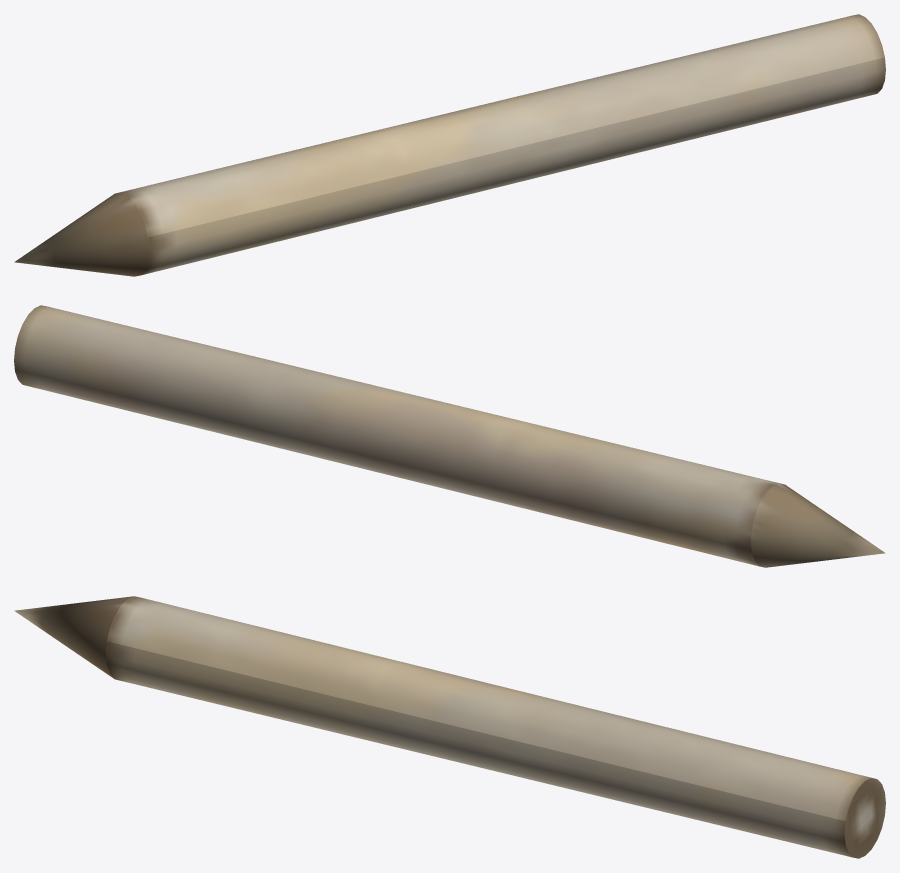
Rendered from SM_Farm_Pencil_01.fbx.
The picture shows the model from 3 angles, top to bottom: view 1: azimuth 30°, elevation 25°; view 2: azimuth 150°, elevation 25°; view 3: azimuth 330°, elevation 25°; orthographic projection.
Parts seen in each view (by area): view 1: SM_Farm_Pencil_01_LOD0; view 2: SM_Farm_Pencil_01_LOD0; view 3: SM_Farm_Pencil_01_LOD0.
Part boxes in pixels (x1,y1,x2,y2): SM_Farm_Pencil_01_LOD0: [14, 14, 885, 276]; SM_Farm_Pencil_01_LOD0: [14, 305, 885, 567]; SM_Farm_Pencil_01_LOD0: [14, 596, 885, 858].
Bounding box in the file's own units: 25.32 × 2.23 × 2.23.
